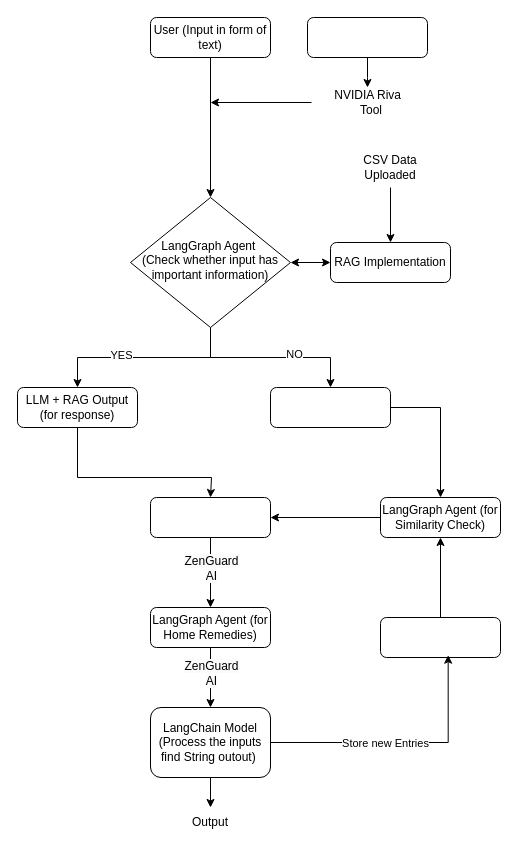
The diagram is 518 pixels wide and 855 high, and some of its shapes have lost their labels. The shapes that lost their labels are listed below. From the top down, each one's centre as x and y in pixels, then its label:
At [367,37]: "User (Input in form of audio)".
At [330,407]: "LangChain LLM Model (for response)".
At [210,517]: "LangGraph Agent (for Precautions)".
At [440,637]: "Vector Database".
